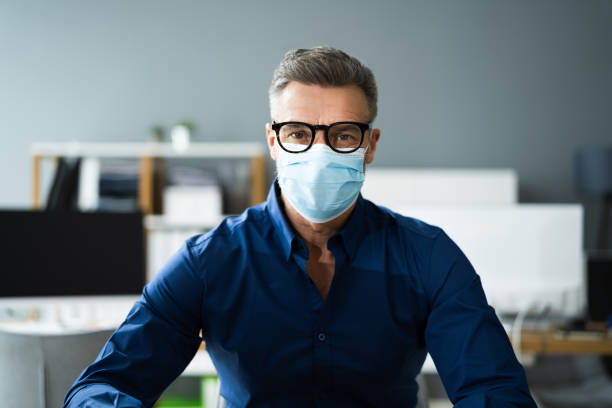with mask: (265, 71, 374, 225)
